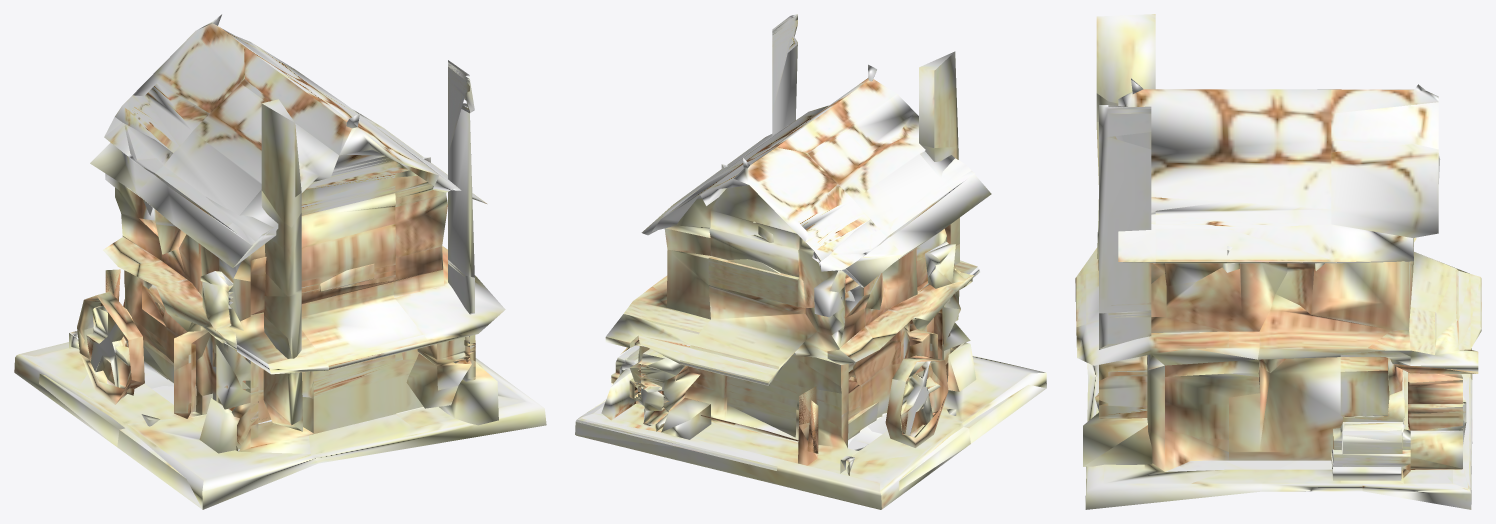
File: mine_sawmill.glb
The picture shows the model from 3 angles, left to right: view 1: azimuth 30°, elevation 25°; view 2: azimuth 150°, elevation 25°; view 3: azimuth 270°, elevation 25°; orthographic projection. The views are drawn at different scales.
Bounding box in the file's own units: 1.91 × 1.89 × 1.88.
1 material, 1 textured.
